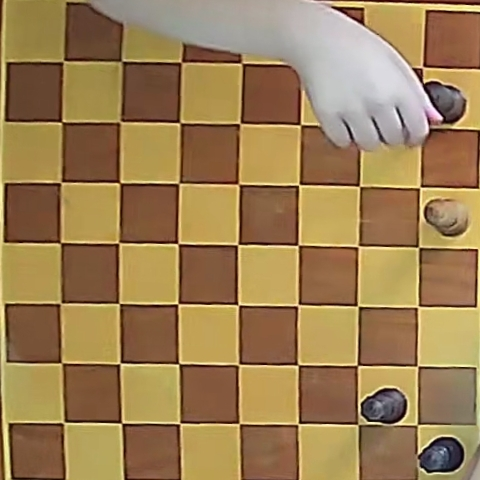black-king: (425, 82, 466, 124)
black-queen: (417, 436, 464, 474), (361, 388, 407, 425)
white-king: (423, 197, 470, 237)
